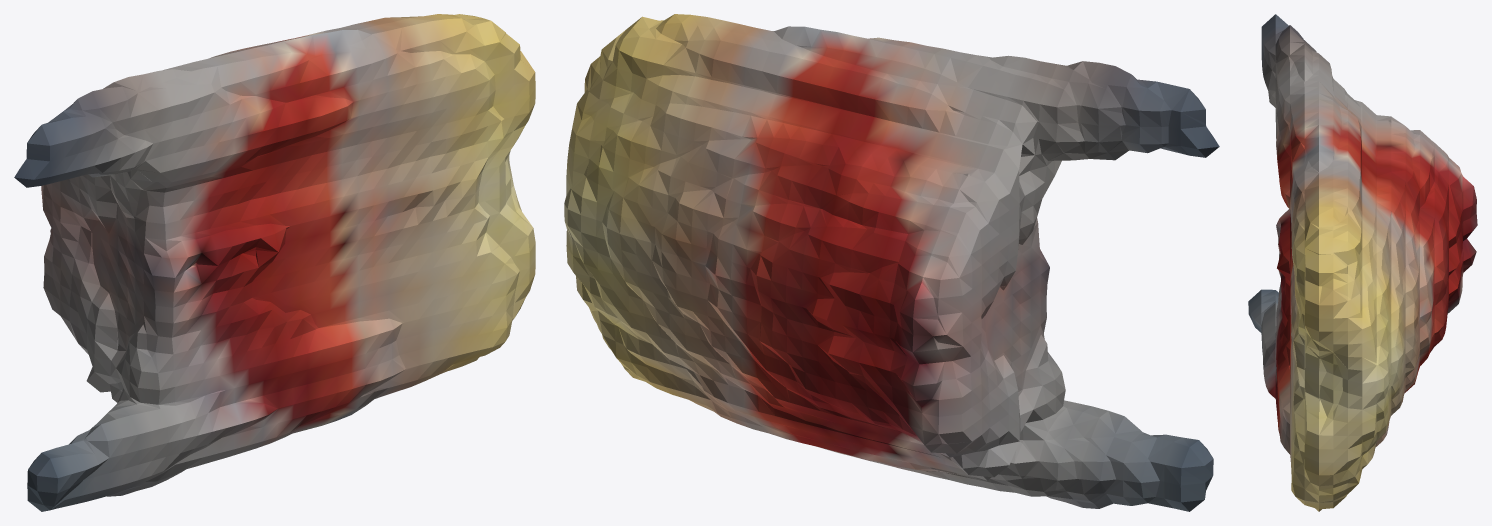
The model's file is producto-014.glb.
3 views of the same model, side by side, from view 1: azimuth 30°, elevation 25°; view 2: azimuth 150°, elevation 25°; view 3: azimuth 270°, elevation 25° (orthographic). The views are drawn at different scales.
Visible parts, largest first — view 1: world; view 2: world; view 3: world.
Part boxes in pixels (x1,y1,x2,y2): world: (14, 14, 535, 511); world: (564, 14, 1219, 511); world: (1248, 14, 1477, 511).
Bounding box in the file's own units: 1.02 × 0.7315 × 0.4386.
